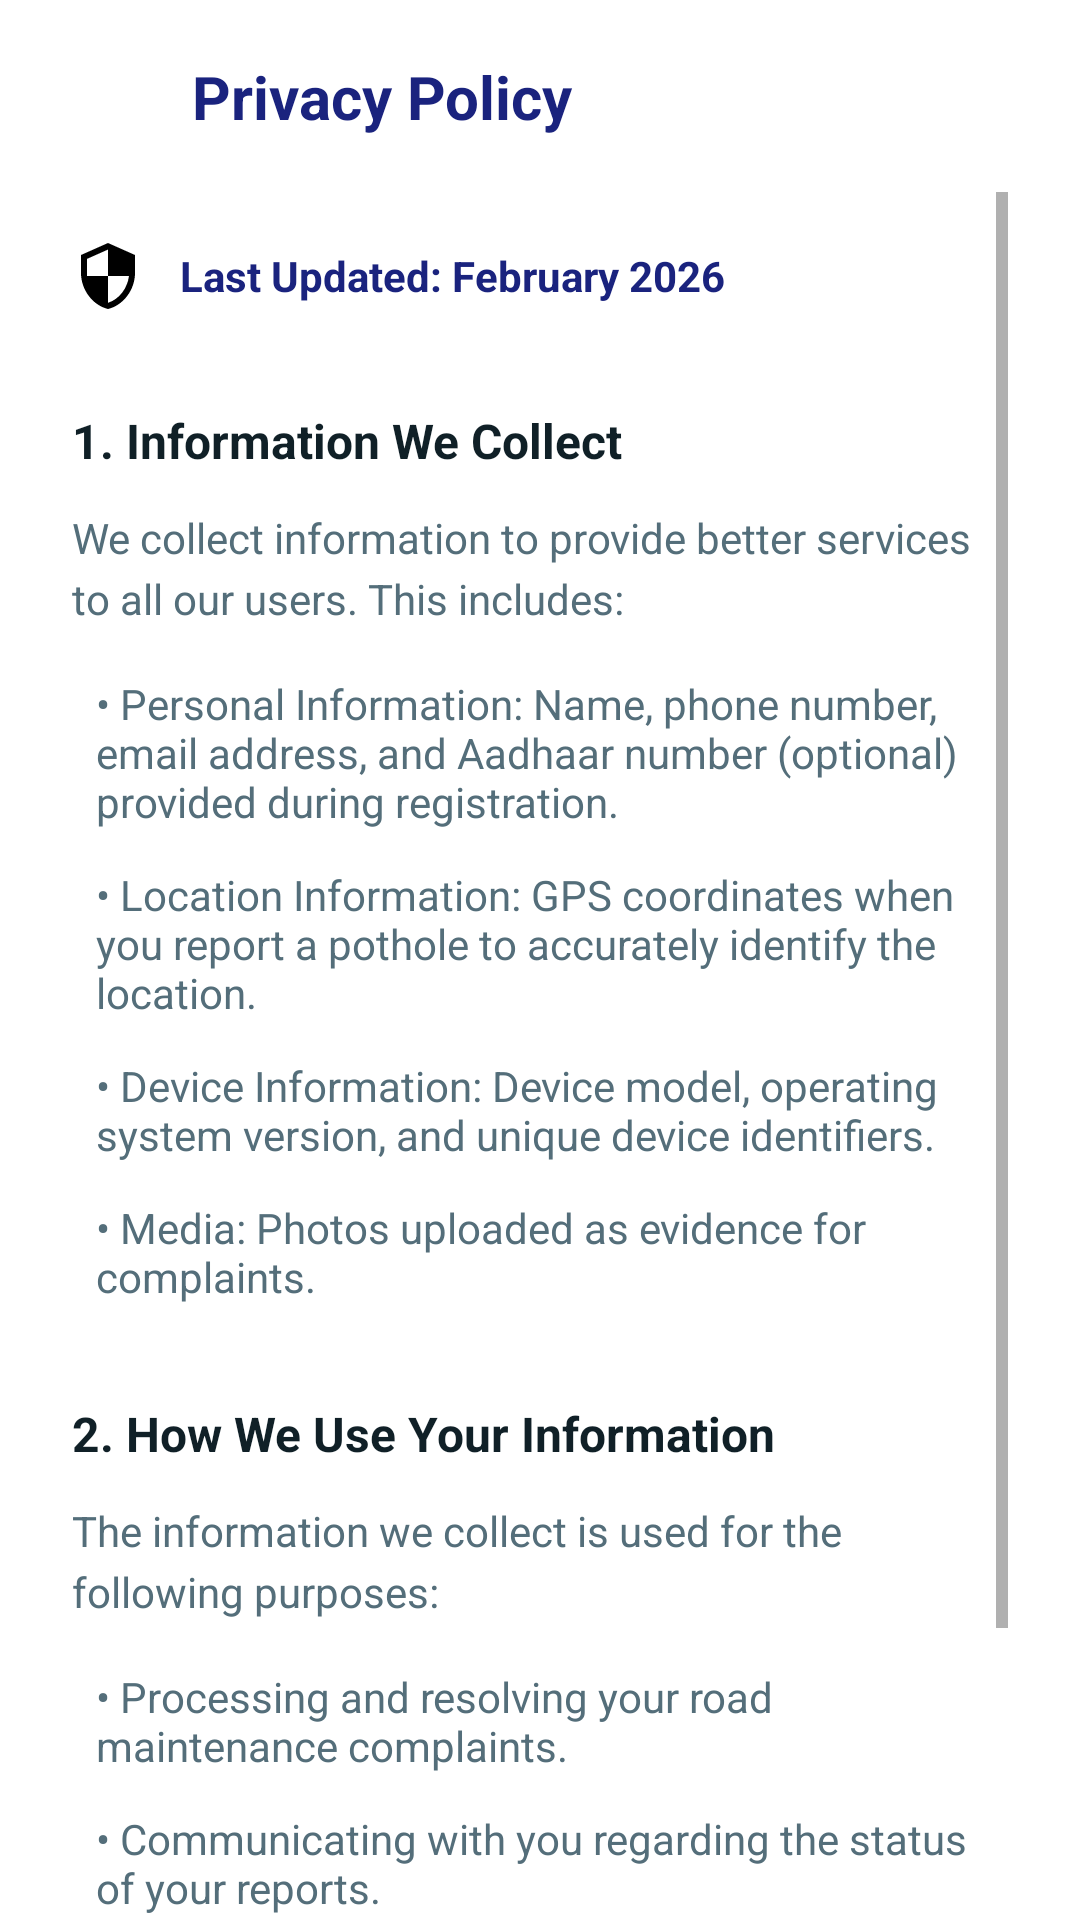

Named icons in this screenshot (1080×1920) and their centers, (x,y):
security: (108,276)
